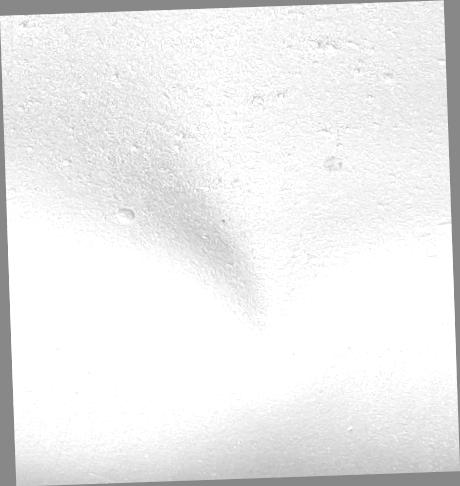dent: (1, 0, 460, 486)
